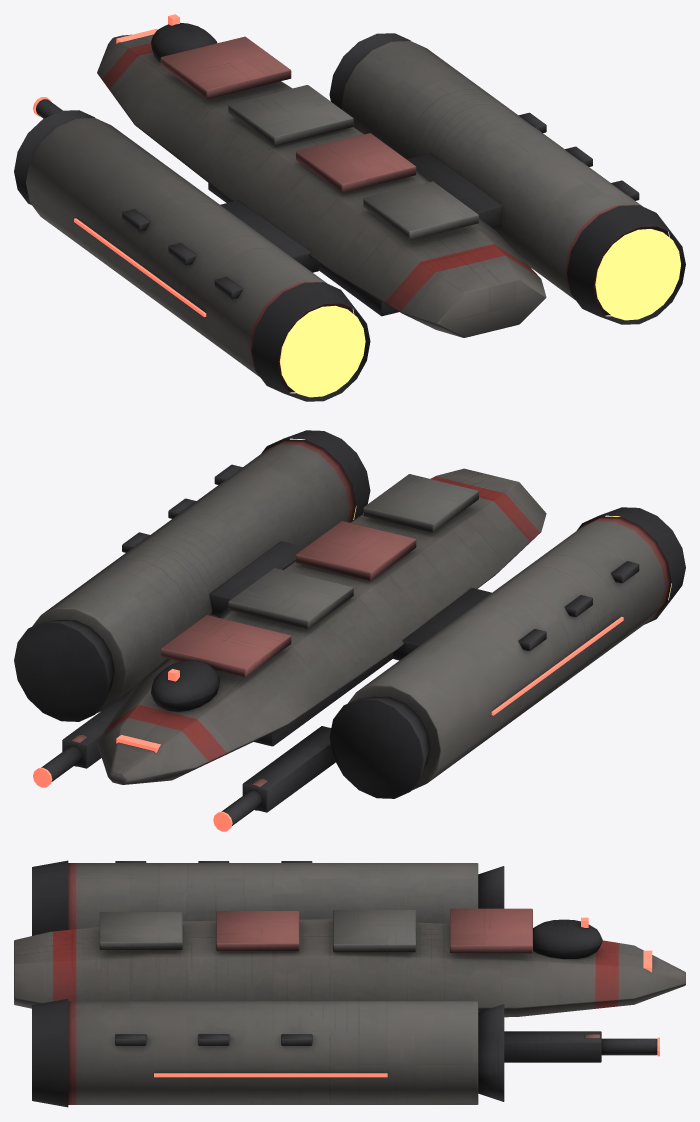
File: maul.glb
The picture shows the model from 3 angles, top to bottom: view 1: azimuth 30°, elevation 25°; view 2: azimuth 150°, elevation 25°; view 3: azimuth 270°, elevation 25°; orthographic projection. The views are drawn at different scales.
Visible parts, largest first — view 1: Maul_Hull, Maul_EngineGlow, Maul_Glow; view 2: Maul_Hull, Maul_Glow; view 3: Maul_Hull, Maul_Glow.
Boxes of the visible parts, bbox=[...] form: Maul_Hull: bbox=[14, 22, 685, 401]; Maul_EngineGlow: bbox=[279, 229, 680, 397]; Maul_Glow: bbox=[33, 14, 206, 316]; Maul_Hull: bbox=[14, 430, 685, 825]; Maul_Glow: bbox=[33, 616, 623, 831]; Maul_Hull: bbox=[14, 860, 685, 1107]; Maul_Glow: bbox=[154, 917, 659, 1077].
Bounding box in the file's own units: 16.8 × 4.85 × 25.9.
Materials: 3 (1 with a texture image).
